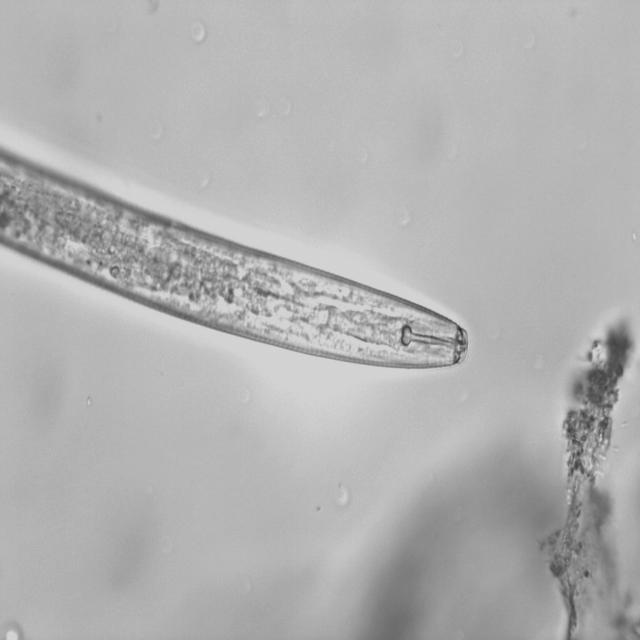Pratylenchus: (0, 123, 481, 378)
